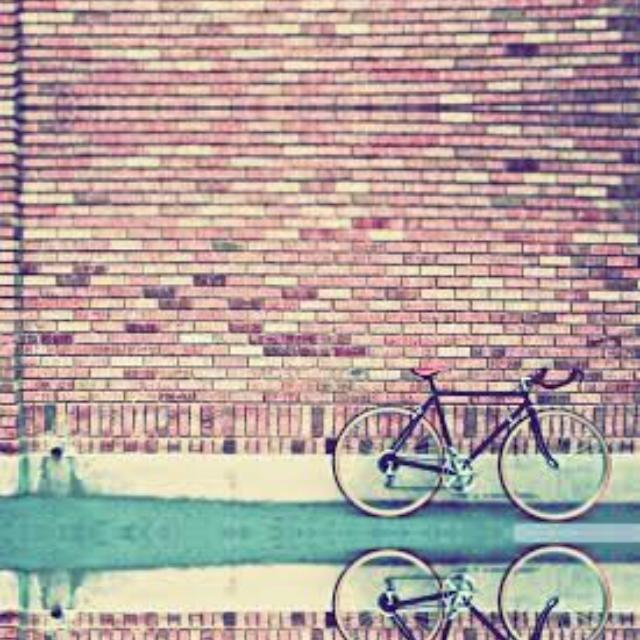obstacle: (308, 344, 626, 520), (308, 546, 625, 640)
